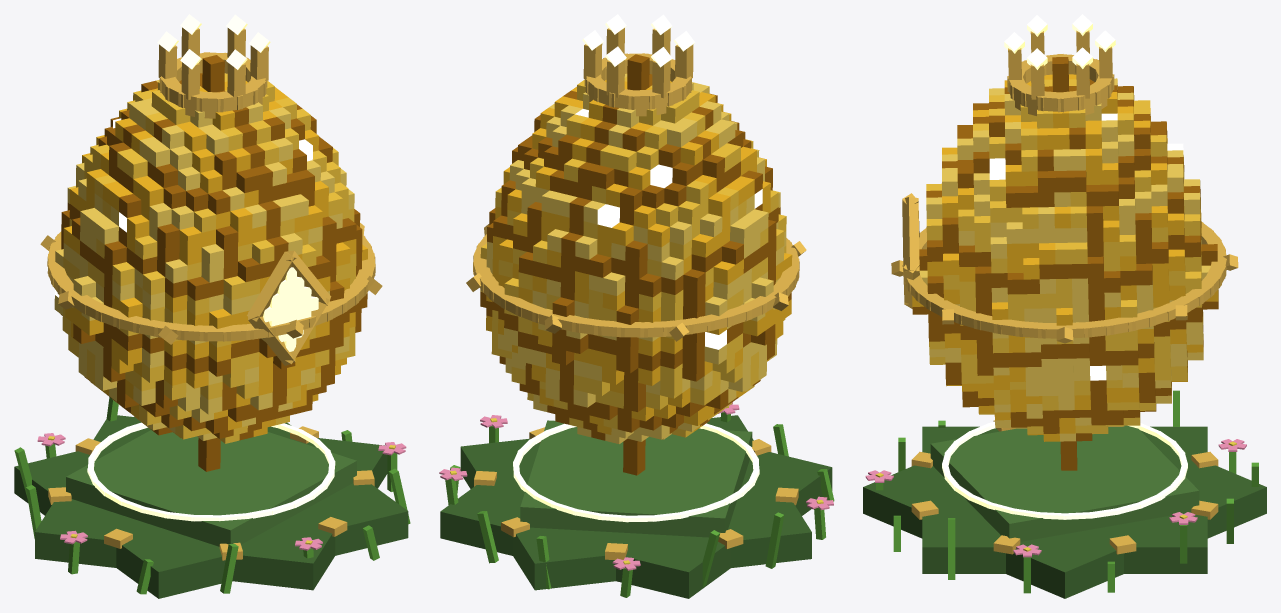
File: egg_raro_panal.glb
The picture shows the model from 3 angles, left to right: view 1: azimuth 30°, elevation 25°; view 2: azimuth 150°, elevation 25°; view 3: azimuth 270°, elevation 25°; orthographic projection.
Parts seen in each view (by area): view 1: shell_geo, root_geo, crown_geo, egg_geo, emblem_geo; view 2: shell_geo, root_geo, crown_geo, egg_geo; view 3: shell_geo, root_geo, egg_geo, crown_geo, emblem_geo.
Part boxes in pixels (x1,y1,x2,y2): shell_geo: (54, 55, 367, 471); root_geo: (14, 397, 410, 598); crown_geo: (157, 14, 270, 118); egg_geo: (40, 223, 382, 344); emblem_geo: (247, 250, 331, 365); shell_geo: (480, 54, 792, 475); root_geo: (439, 402, 834, 598); crown_geo: (582, 14, 695, 116); egg_geo: (466, 224, 806, 341); shell_geo: (912, 57, 1218, 470); root_geo: (863, 390, 1266, 598); egg_geo: (891, 222, 1238, 343); crown_geo: (1004, 14, 1115, 115); emblem_geo: (902, 193, 919, 308).
Bounding box in the file's own units: 5.52 × 7.28 × 5.52.
